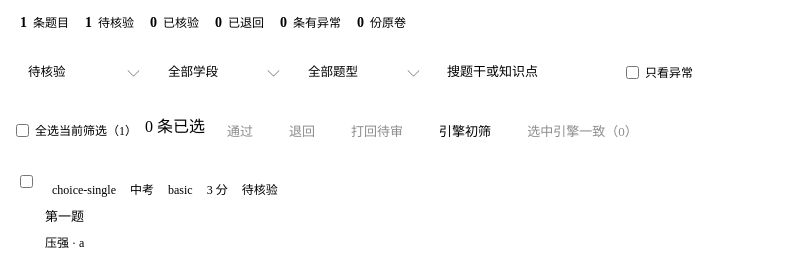
Scenario: AdminContentTab › says so when the filter matches nothing
Expected: the text "第一题" is shown, left=45, top=209, right=84, bottom=224
Type "不存在的词" into the field with placeholder "搜题干或知识点" at [527, 72], box left=436, top=55, right=618, bottom=89
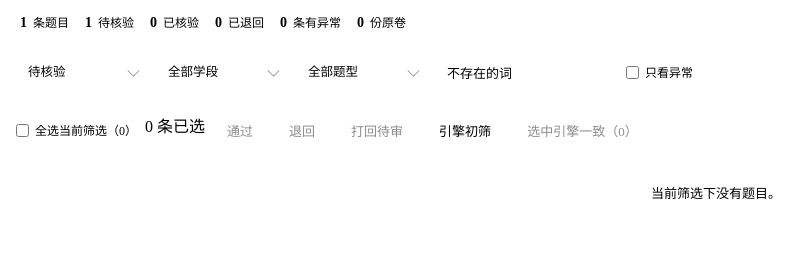
Result: the text "当前筛选下没有题目。" is shown at left=651, top=186, right=781, bottom=201
